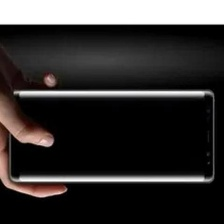phone: (4, 86, 218, 186)
